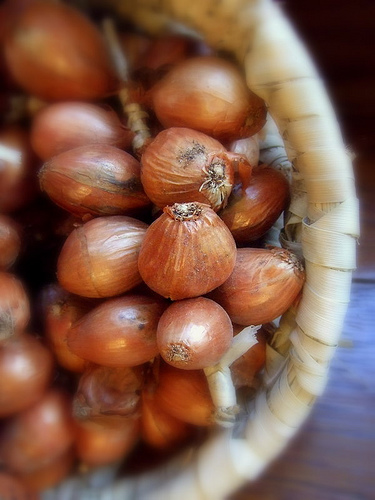onion: (122, 191, 257, 305), (147, 55, 267, 141), (210, 245, 305, 326)
